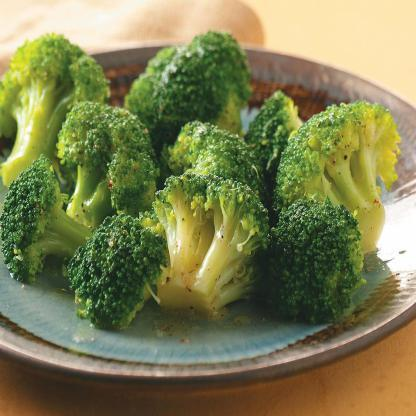broccoli: (0, 31, 404, 334)
